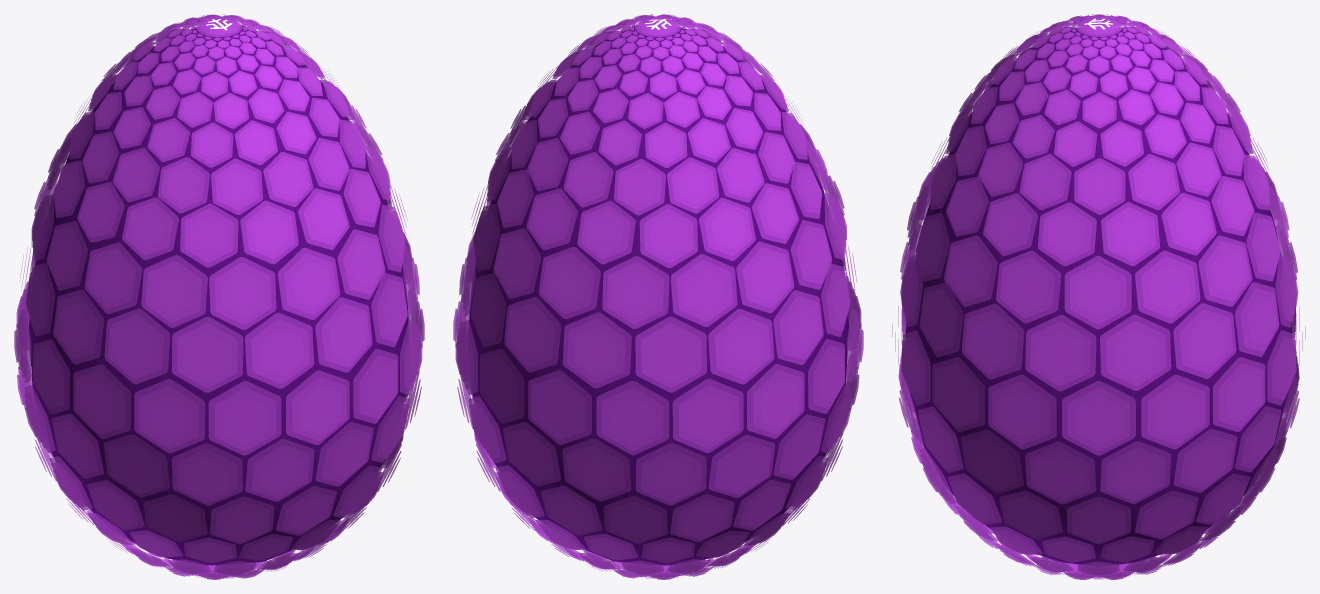
The model's file is treechatEggAnimCompressed_BillboardTest_02.glb.
3 views of the same model, side by side, from view 1: azimuth 30°, elevation 25°; view 2: azimuth 150°, elevation 25°; view 3: azimuth 270°, elevation 25° (orthographic).
Parts seen in each view (by area): view 1: hexs, egg, capTop; view 2: hexs, egg, capTop; view 3: hexs, egg, capTop.
Boxes of the visible parts, bbox=[...] form: hexs: bbox=[14, 14, 424, 579]; egg: bbox=[29, 28, 409, 565]; capTop: bbox=[191, 16, 247, 40]; hexs: bbox=[453, 14, 863, 579]; egg: bbox=[468, 28, 848, 565]; capTop: bbox=[630, 16, 686, 40]; hexs: bbox=[892, 14, 1305, 579]; egg: bbox=[905, 28, 1292, 565]; capTop: bbox=[1071, 16, 1127, 40].
Size of what is drawn, in the model's own units: 1.89 by 2.78 by 1.92.
